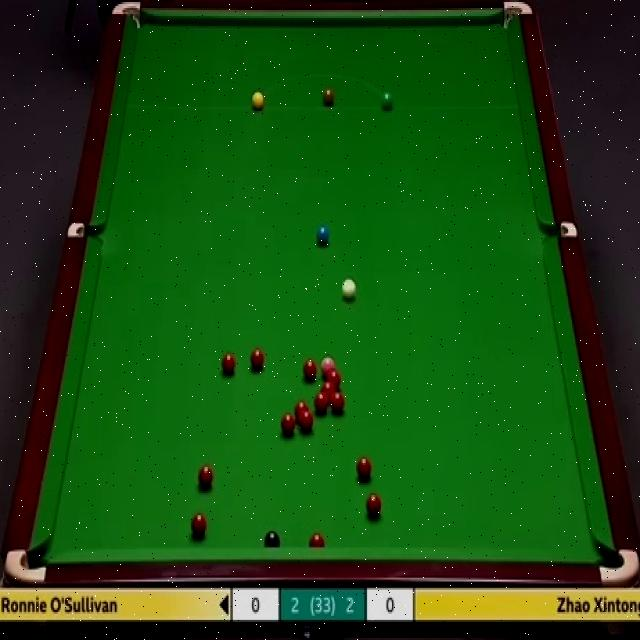black-ball: (264, 529, 280, 549)
blue-ball: (316, 225, 329, 248)
brown-ball: (323, 90, 335, 108)
green-ball: (382, 91, 398, 110)
pink-ball: (320, 354, 335, 369)
red-ball: (191, 512, 208, 540), (366, 491, 382, 517), (280, 411, 296, 437), (220, 351, 236, 376), (357, 457, 372, 483), (198, 465, 214, 489), (249, 348, 266, 370), (298, 410, 314, 433), (308, 531, 326, 550), (314, 393, 328, 414), (302, 358, 316, 379), (331, 393, 345, 413), (293, 400, 310, 414), (326, 371, 341, 386), (322, 381, 336, 394)
white-ball: (340, 275, 357, 301)
yellow-ball: (251, 89, 265, 109)
